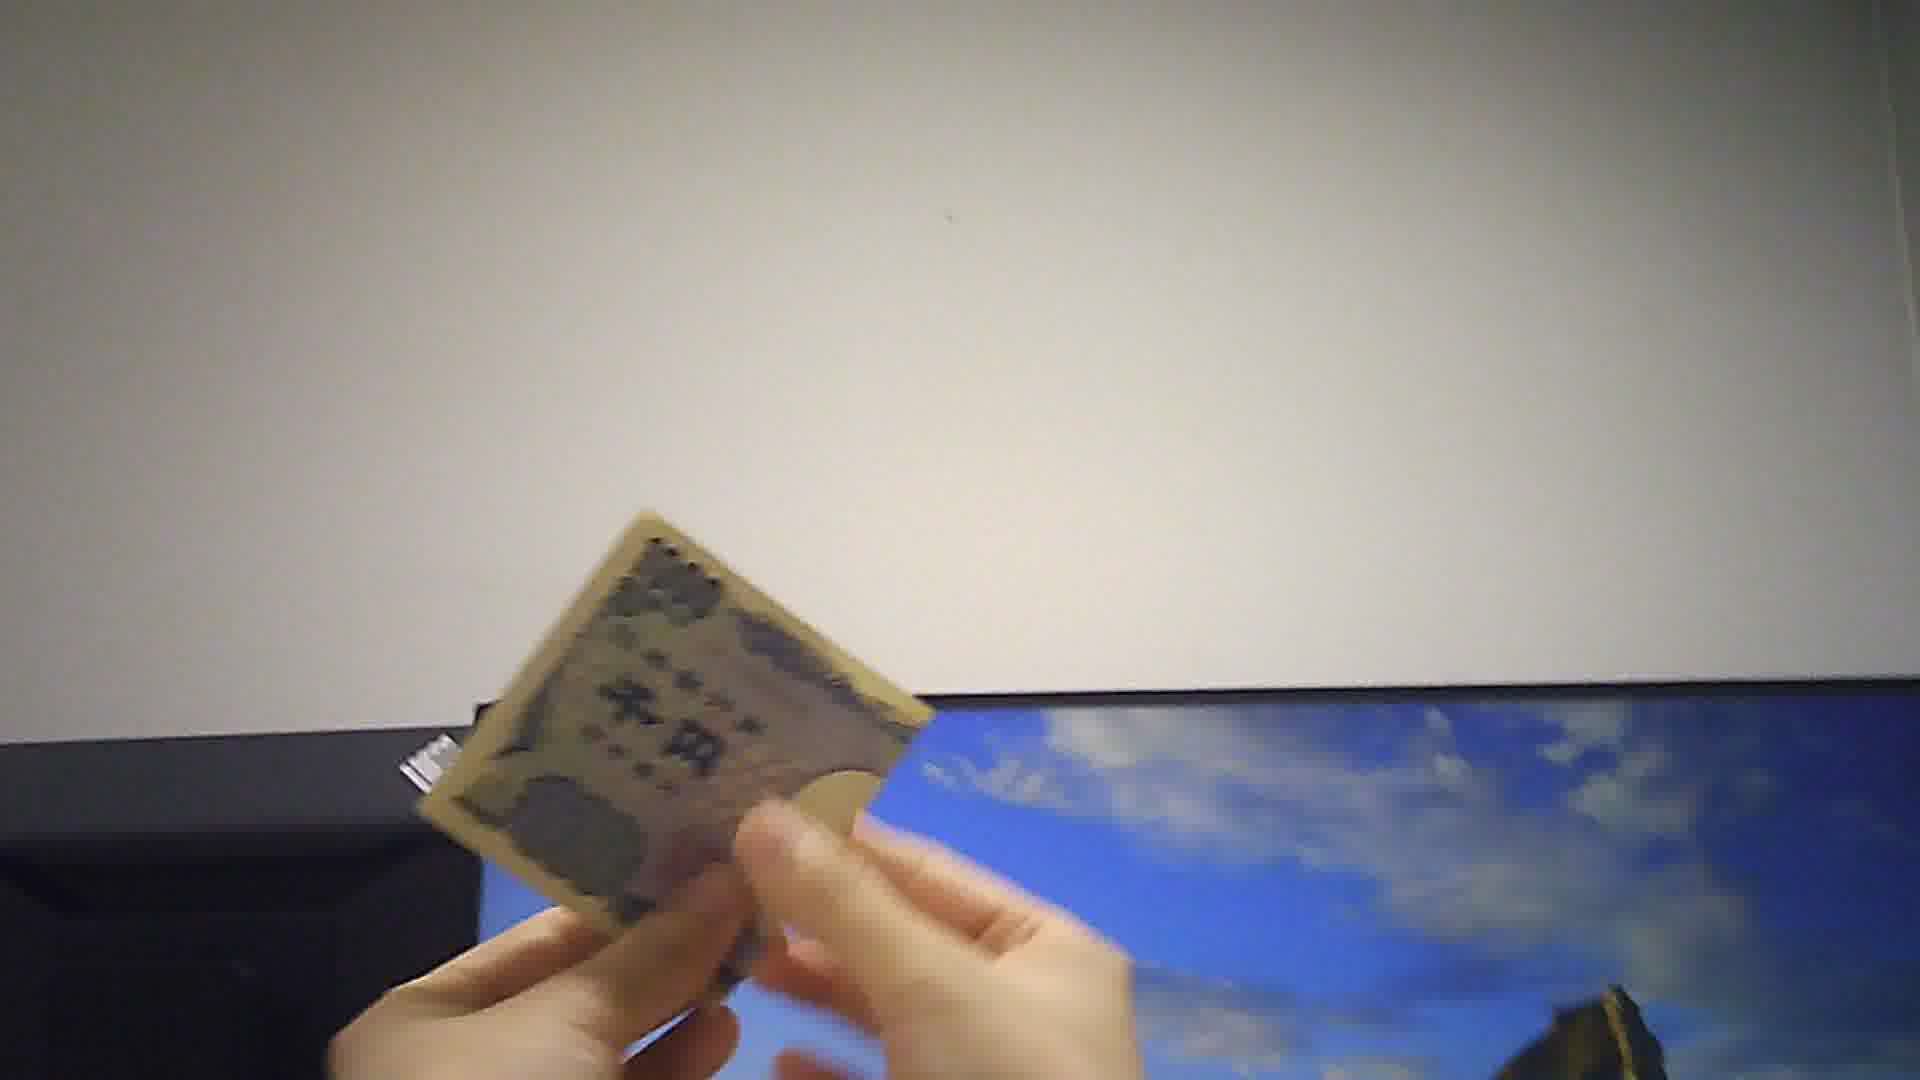1,000 Yen: (415, 505, 942, 992)
